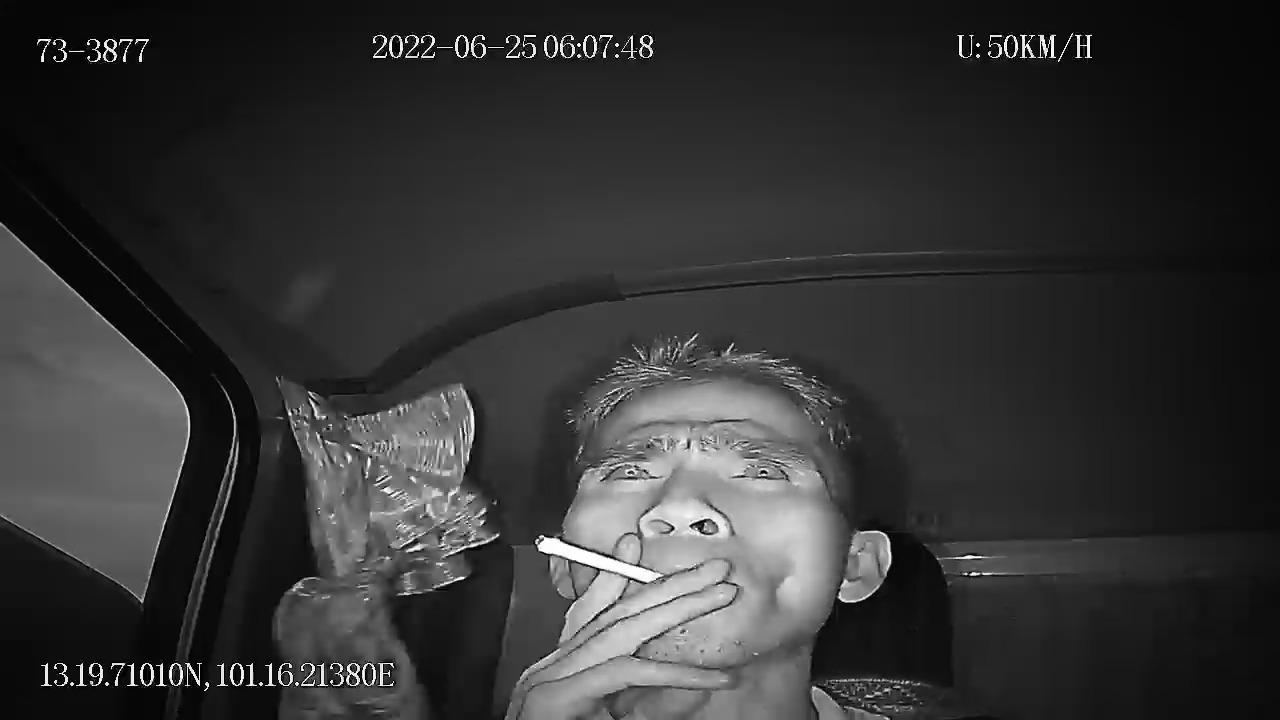Smoking: (526, 525, 677, 598)
